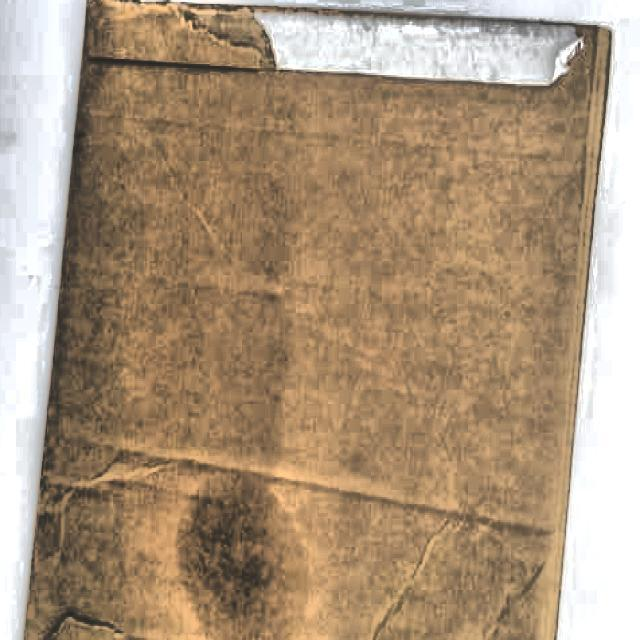cardboard: (16, 0, 615, 640)
